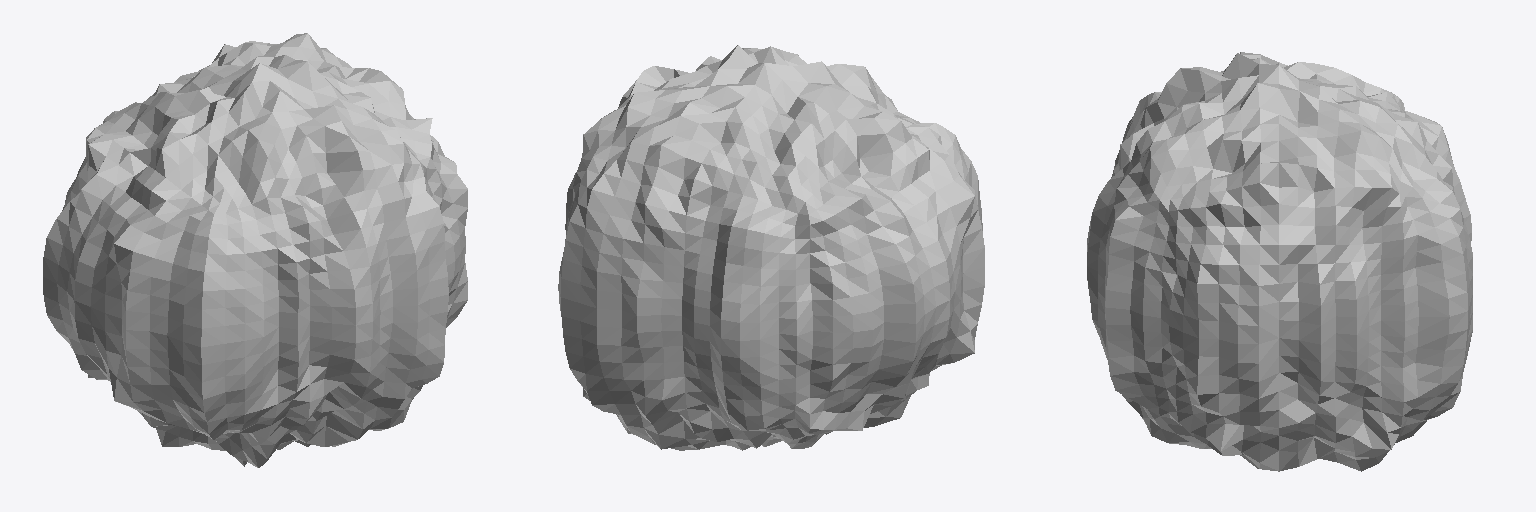
Rendered from asteroid72.obj.
3 views of the same model, side by side, from view 1: azimuth 30°, elevation 25°; view 2: azimuth 150°, elevation 25°; view 3: azimuth 270°, elevation 25° (orthographic).
Parts seen in each view (by area): view 1: Cube_Cube.002; view 2: Cube_Cube.002; view 3: Cube_Cube.002.
Part boxes in pixels (x1,y1,x2,y2): Cube_Cube.002: (43,33,467,467); Cube_Cube.002: (558,45,984,450); Cube_Cube.002: (1087,52,1472,471).
Size of the model in its own units: 1.81 by 1.84 by 1.67.